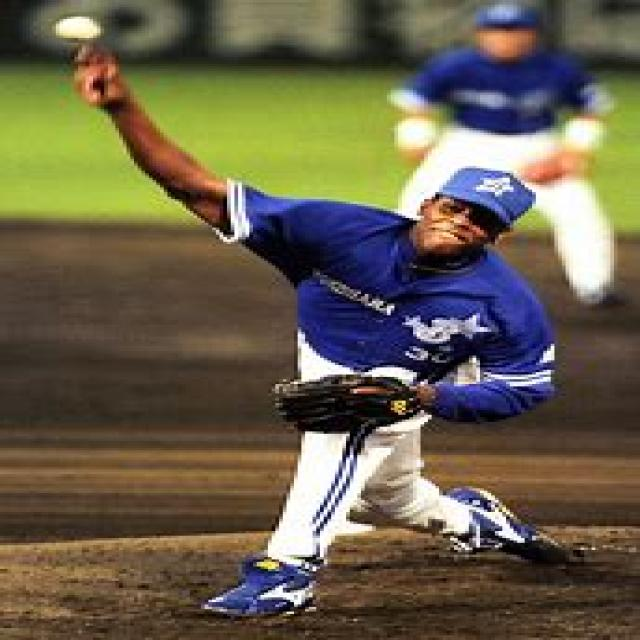ball: (52, 14, 104, 46)
glove: (264, 373, 424, 434)
